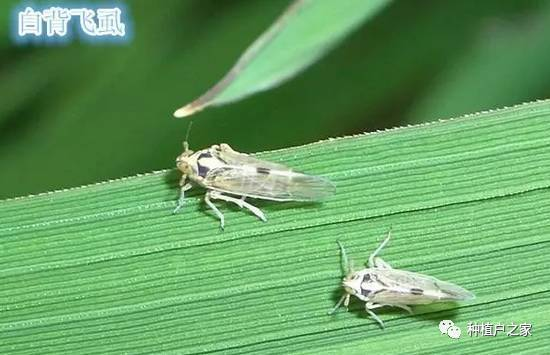Delphacidae: (172, 121, 337, 232), (327, 224, 477, 330)
